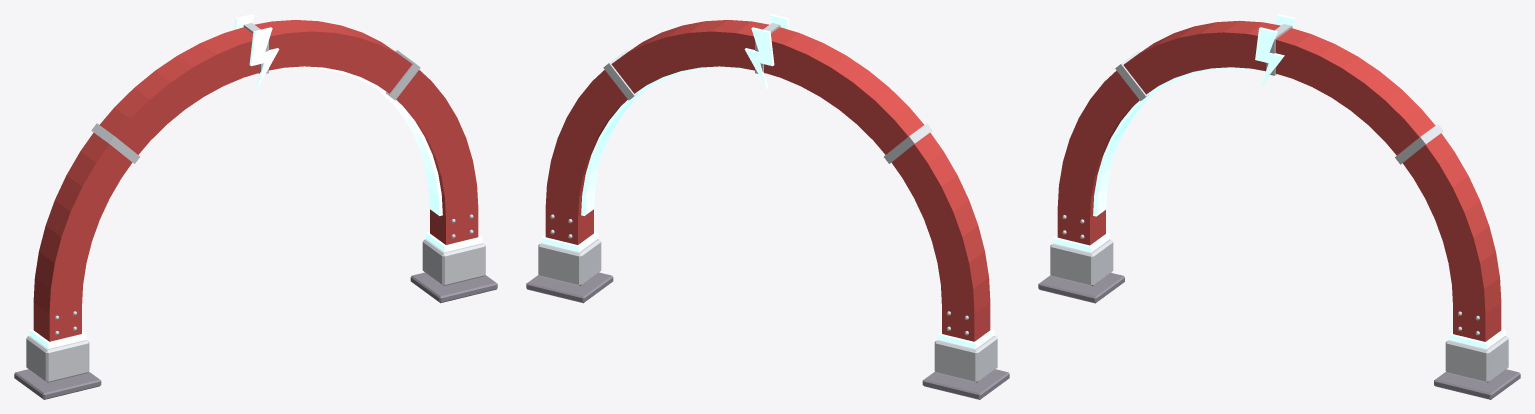
The model's file is magnetarch.glb.
3 renders of one model, left to right at view 1: azimuth 30°, elevation 25°; view 2: azimuth 150°, elevation 25°; view 3: azimuth 330°, elevation 25°, orthographic.
Visible parts, largest first — view 1: MA_Body.001, MA_Pole_1.001, MA_Pole_-1.001, MA_GlowInner.001, MA_Base_1.001, MA_Base_-1.001, MA_Bolt_-1.001, MA_Clamp_21.001, MA_GlowRing_1.001, MA_GlowRing_-1.001, MA_Clamp_7.001; view 2: MA_Body.001, MA_Pole_1.001, MA_Pole_-1.001, MA_GlowInner.001, MA_Base_1.001, MA_Base_-1.001, MA_Bolt_1.001, MA_Clamp_21.001, MA_GlowRing_1.001, MA_GlowRing_-1.001, MA_Clamp_7.001; view 3: MA_Body.001, MA_Pole_-1.001, MA_Pole_1.001, MA_GlowInner.001, MA_Base_1.001, MA_Base_-1.001, MA_Bolt_-1.001, MA_Clamp_7.001, MA_GlowRing_-1.001, MA_GlowRing_1.001, MA_Clamp_21.001.
Part boxes in pixels (<box>): MA_Body.001: <box>33,20,478,341</box>; MA_Pole_1.001: <box>422,239,485,285</box>; MA_Pole_-1.001: <box>26,336,89,382</box>; MA_GlowInner.001: <box>82,66,442,297</box>; MA_Base_1.001: <box>410,272,497,303</box>; MA_Base_-1.001: <box>14,369,101,399</box>; MA_Bolt_-1.001: <box>249,27,279,88</box>; MA_Clamp_21.001: <box>91,123,139,163</box>; MA_GlowRing_1.001: <box>425,232,482,252</box>; MA_GlowRing_-1.001: <box>29,328,86,348</box>; MA_Clamp_7.001: <box>386,50,420,100</box>; MA_Body.001: <box>545,20,990,341</box>; MA_Pole_1.001: <box>538,239,601,285</box>; MA_Pole_-1.001: <box>934,336,997,382</box>; MA_GlowInner.001: <box>581,66,941,297</box>; MA_Base_1.001: <box>526,272,613,303</box>; MA_Base_-1.001: <box>922,369,1009,399</box>; MA_Bolt_1.001: <box>744,27,774,88</box>; MA_Clamp_21.001: <box>884,123,932,163</box>; MA_GlowRing_1.001: <box>541,232,598,252</box>; MA_GlowRing_-1.001: <box>937,328,994,348</box>; MA_Clamp_7.001: <box>603,50,637,100</box>; MA_Body.001: <box>1057,20,1501,341</box>; MA_Pole_-1.001: <box>1050,239,1113,286</box>; MA_Pole_1.001: <box>1445,336,1508,382</box>; MA_GlowInner.001: <box>1093,67,1452,302</box>; MA_Base_1.001: <box>1434,369,1520,399</box>; MA_Base_-1.001: <box>1038,273,1124,303</box>; MA_Bolt_-1.001: <box>1255,27,1284,85</box>; MA_Clamp_7.001: <box>1395,124,1443,164</box>; MA_GlowRing_-1.001: <box>1053,232,1110,252</box>; MA_GlowRing_1.001: <box>1448,329,1505,348</box>; MA_Clamp_21.001: <box>1115,51,1149,100</box>.
Size of the model in its own units: 28 by 18.32 by 3.2.
